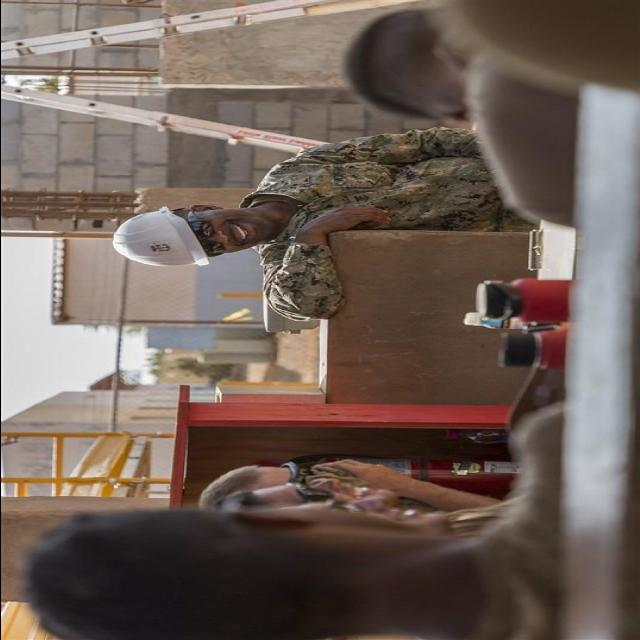jacket: (105, 198, 211, 280)
